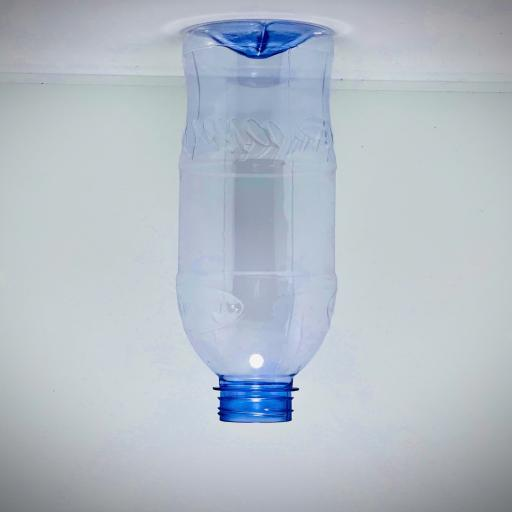bottle: (176, 20, 336, 423)
